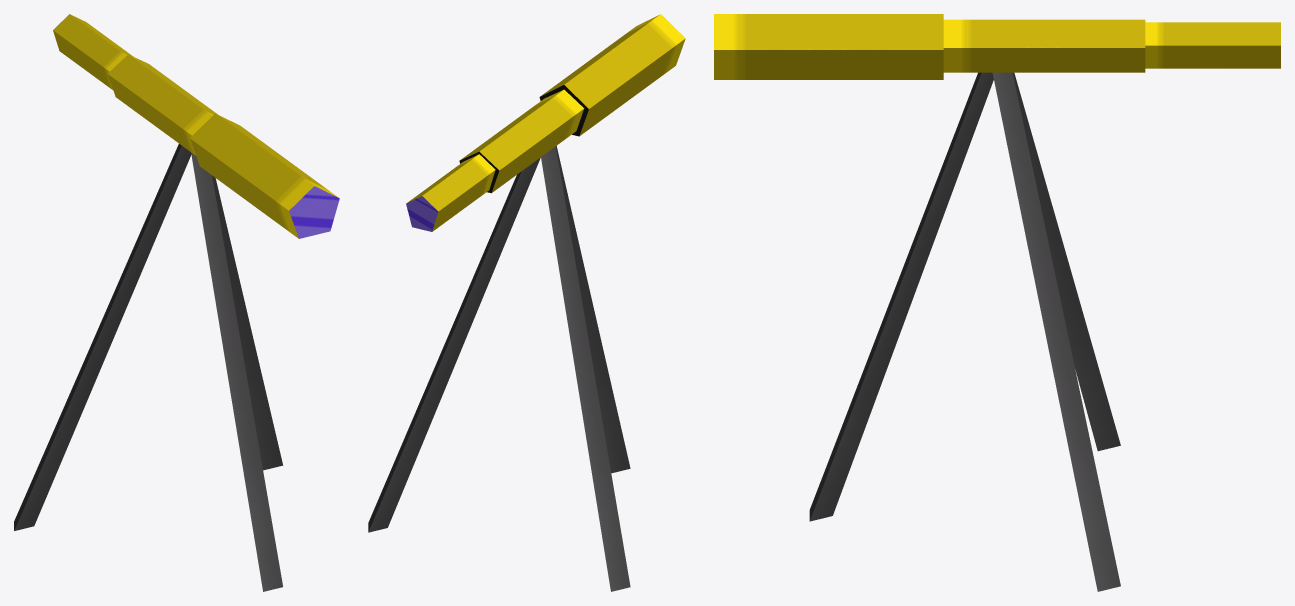
Rendered from Telescope.fbx.
3 views of the same model, side by side, from view 1: azimuth 30°, elevation 25°; view 2: azimuth 150°, elevation 25°; view 3: azimuth 270°, elevation 25° (orthographic). The views are drawn at different scales.
Parts seen in each view (by area): view 1: Maya_File_Assets:TexturedAssetsCurrent:telescope; view 2: Maya_File_Assets:TexturedAssetsCurrent:telescope; view 3: Maya_File_Assets:TexturedAssetsCurrent:telescope.
Boxes of the visible parts, <box> form: Maya_File_Assets:TexturedAssetsCurrent:telescope: <box>14,14,339,591</box>; Maya_File_Assets:TexturedAssetsCurrent:telescope: <box>368,14,685,591</box>; Maya_File_Assets:TexturedAssetsCurrent:telescope: <box>714,14,1280,591</box>.
Bounding box in the file's own units: 0.8744 × 1.35 × 1.38.
